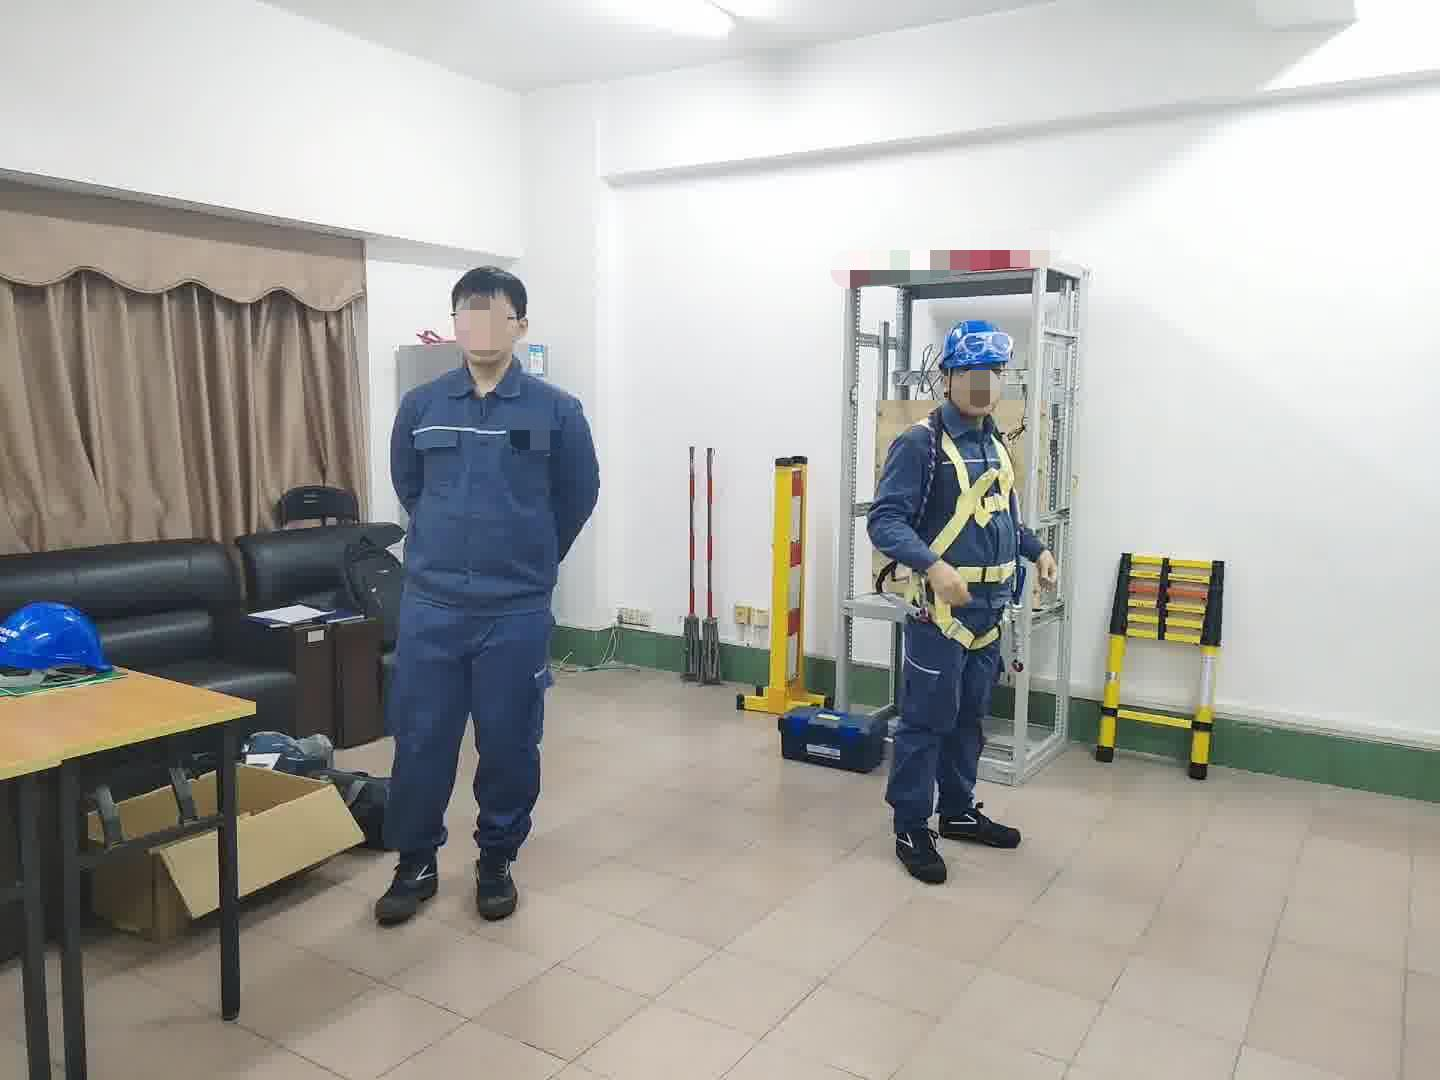halt: (939, 320, 1017, 419)
noear: (506, 312, 535, 348)
unhalt: (450, 269, 534, 376)
